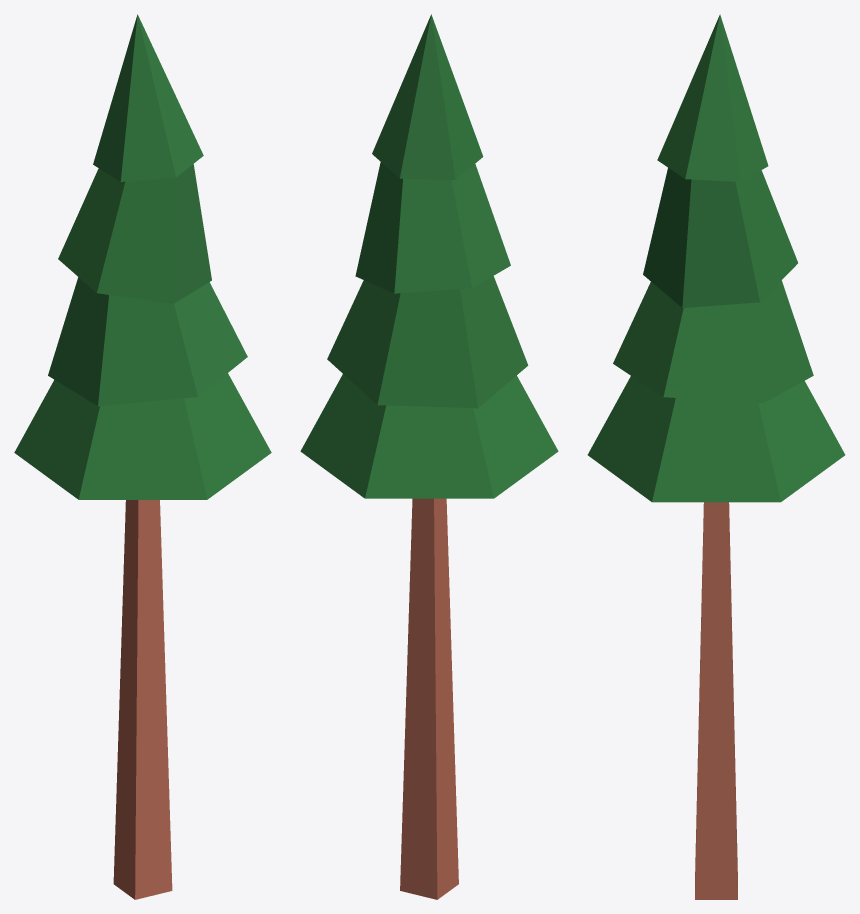
File: tree_pineTallD.glb
3 views of the same model, side by side, from view 1: azimuth 30°, elevation 25°; view 2: azimuth 150°, elevation 25°; view 3: azimuth 270°, elevation 25° (orthographic).
Parts seen in each view (by area): view 1: tree_pineTallD; view 2: tree_pineTallD; view 3: tree_pineTallD.
Part boxes in pixels (bbox=[...]): tree_pineTallD: bbox=[14, 14, 271, 899]; tree_pineTallD: bbox=[300, 14, 558, 899]; tree_pineTallD: bbox=[587, 14, 845, 899].
Size of the model in its own units: 0.4804 by 2.08 by 0.5547.
